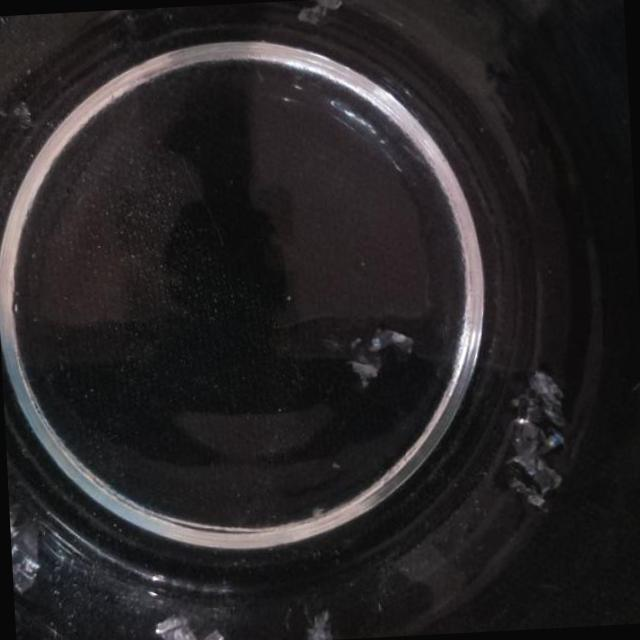fiber: (497, 359, 581, 518), (340, 324, 420, 386), (9, 498, 46, 596), (0, 82, 33, 162), (153, 609, 230, 640), (296, 0, 382, 22), (298, 612, 339, 640)
